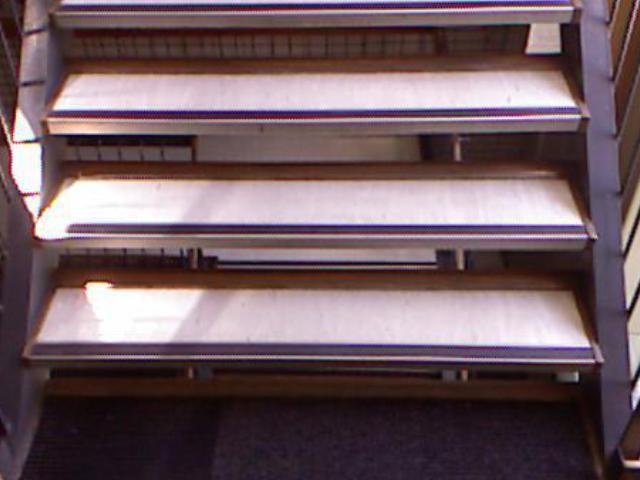Escaleras: (18, 0, 615, 446)
